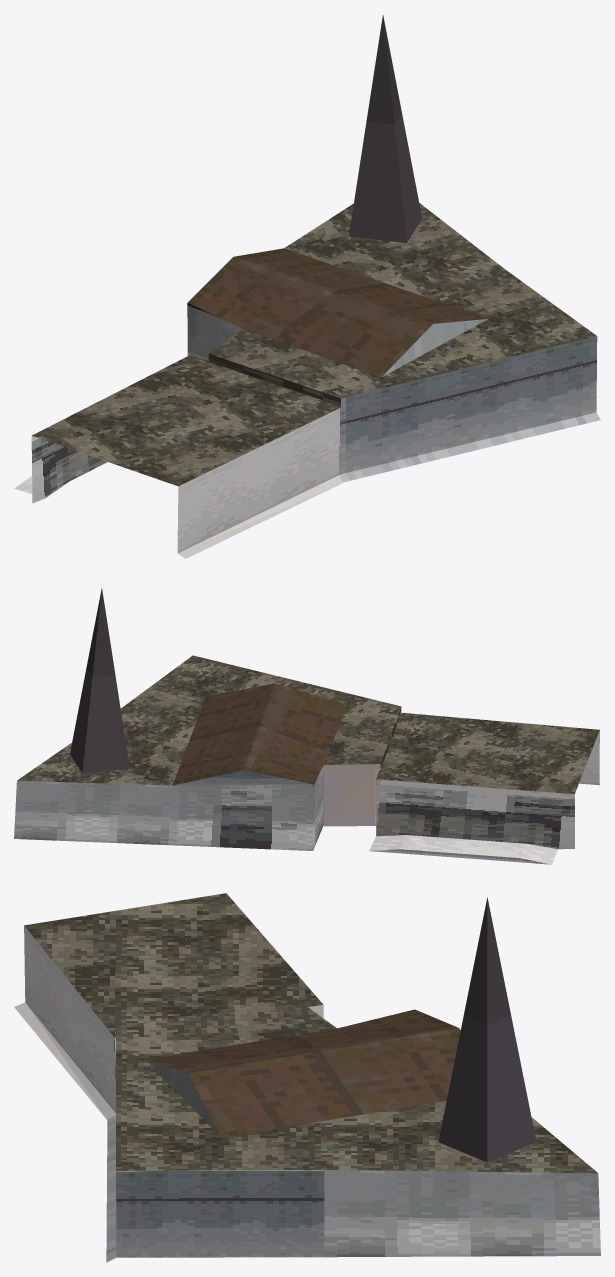
The model's file is lodxsshop1.obj.
The picture shows the model from 3 angles, top to bottom: view 1: azimuth 30°, elevation 25°; view 2: azimuth 150°, elevation 25°; view 3: azimuth 270°, elevation 25°; orthographic projection. The views are drawn at different scales.
Visible parts, largest first — view 1: LODxsshop1; view 2: LODxsshop1; view 3: LODxsshop1.
Part boxes in pixels (x1,y1,x2,y2): LODxsshop1: (14, 15, 600, 558); LODxsshop1: (14, 588, 600, 864); LODxsshop1: (14, 893, 600, 1262).
Size of the model in its own units: 31.47 by 17 by 26.77.
Materials: 5 (5 with a texture image).
